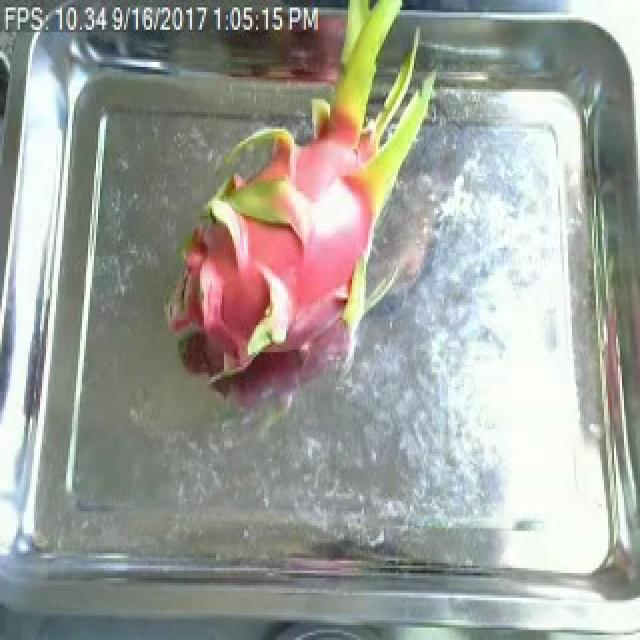fruit: (144, 8, 454, 400)
